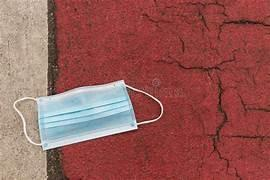Mask: (13, 80, 162, 149)
